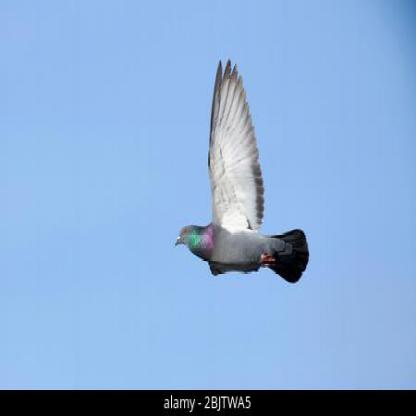Flying Rat: (163, 61, 313, 285)
